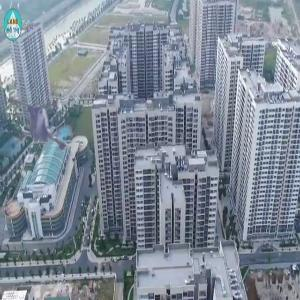drone: (9, 86, 93, 170)
